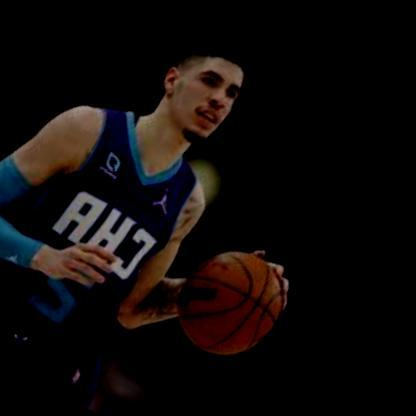basketball: (162, 234, 309, 371)
